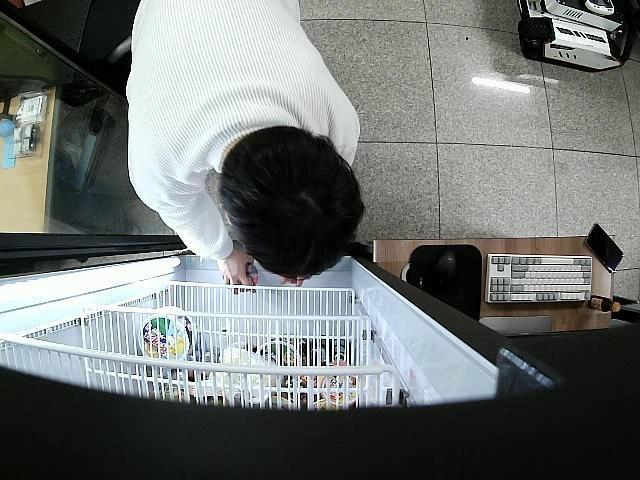08_buldak_S: (224, 263, 258, 292)
